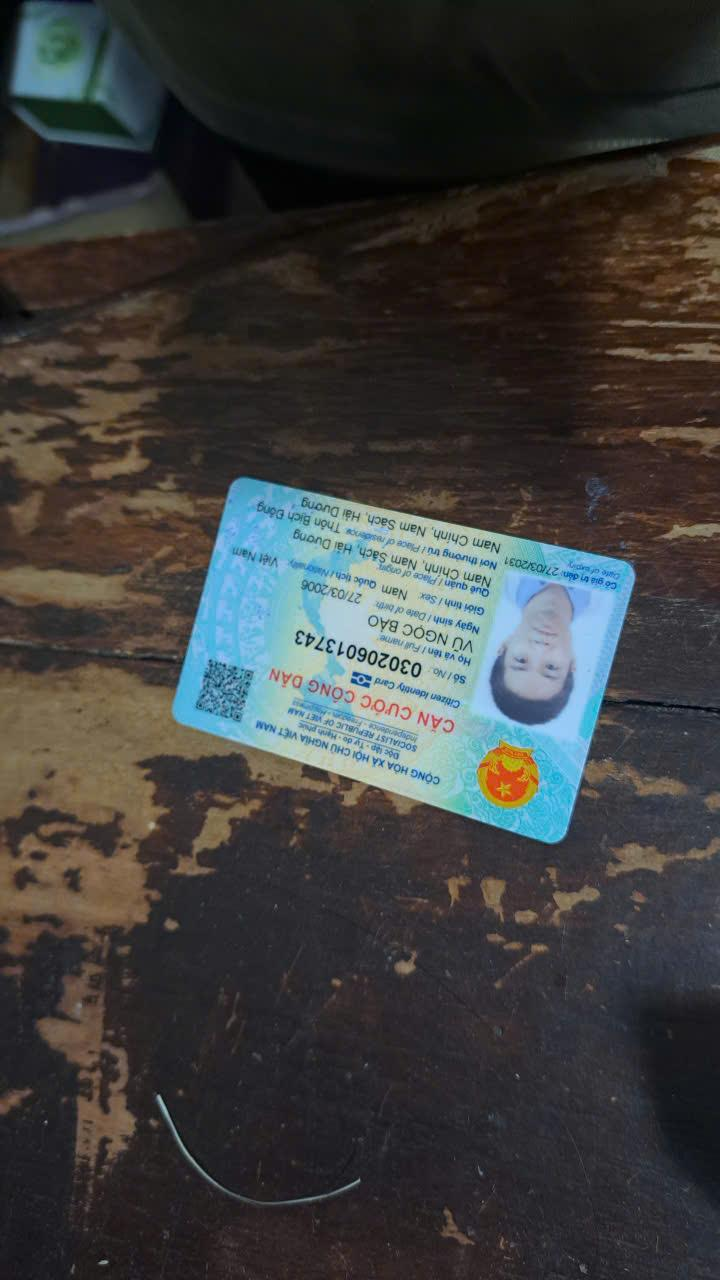cccd: (168, 473, 642, 854)
